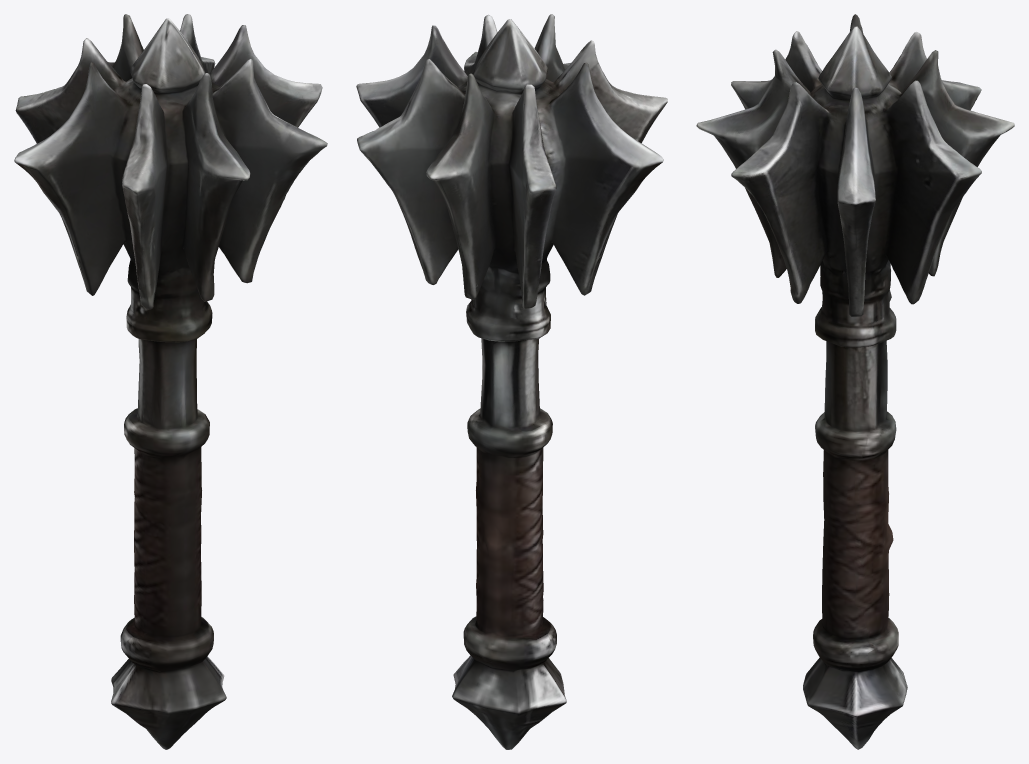
File: flanged_mace.glb
3 renders of one model, left to right at view 1: azimuth 30°, elevation 25°; view 2: azimuth 150°, elevation 25°; view 3: azimuth 270°, elevation 25°, orthographic.
Visible parts, largest first — view 1: flanged_mace; view 2: flanged_mace; view 3: flanged_mace.
Part boxes in pixels (x1=…): flanged_mace: x1=14, y1=14, x2=327, y2=749; flanged_mace: x1=356, y1=14, x2=667, y2=749; flanged_mace: x1=696, y1=14, x2=1014, y2=749.
Bounding box in the file's own units: 0.3284 × 0.7469 × 0.2985.
1 material, 1 textured.
